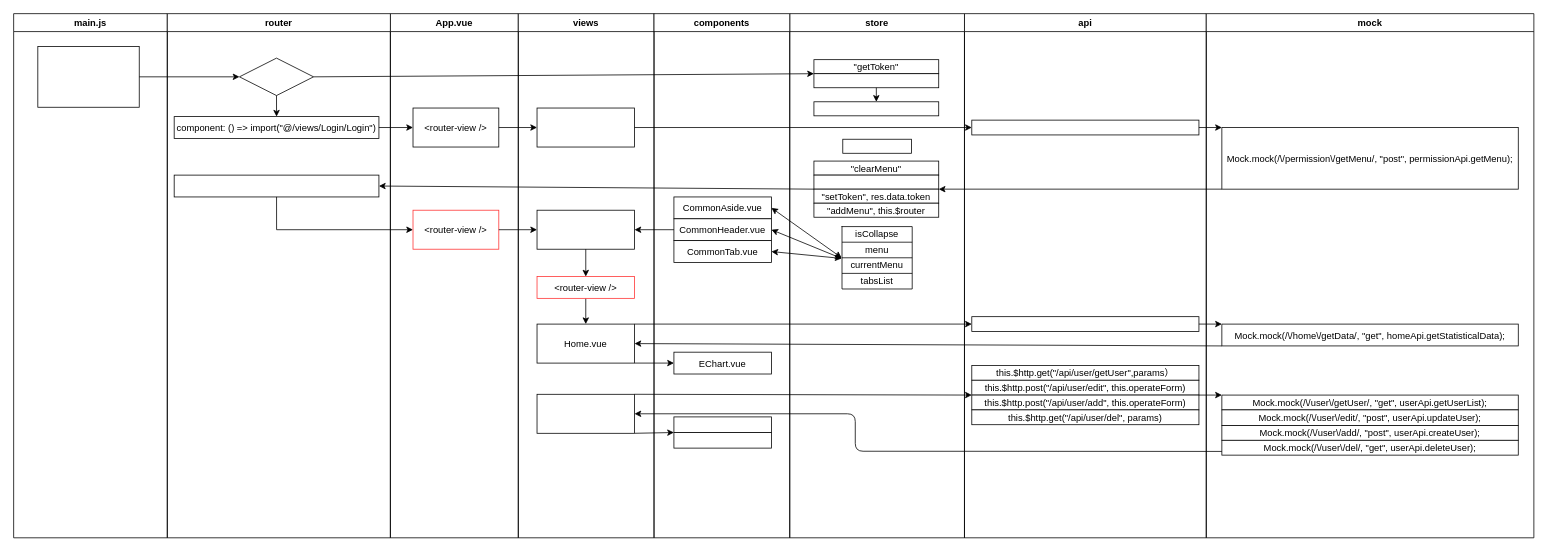
The diagram is 1548 pixels wide and 551 high, and some of its shapes have lost their labels. Here are the shapes that lost their labels. From the top down, the centre of each, then its label:
the point at 88,76: router.beforeEach(()
the point at 276,76: !token && to.name !== "login"
the point at 876,80: "getMenu"
the point at 585,127: Login.vue
the point at 876,108: "addMenu", this.router
the point at 1085,127: this.$http.post("api/permission/getMenu", this.form)
the point at 876,145: Cookie
the point at 276,185: this.$router.push({ name: "home" });
the point at 876,181: "setMenu", res.data.menu
the point at 585,229: Main.vue
the point at 1085,324: this.$http.get("/home/getData")
the point at 585,413: UserManage.vue
the point at 722,424: CommonTable.vue
the point at 722,440: CommonForm.vue
